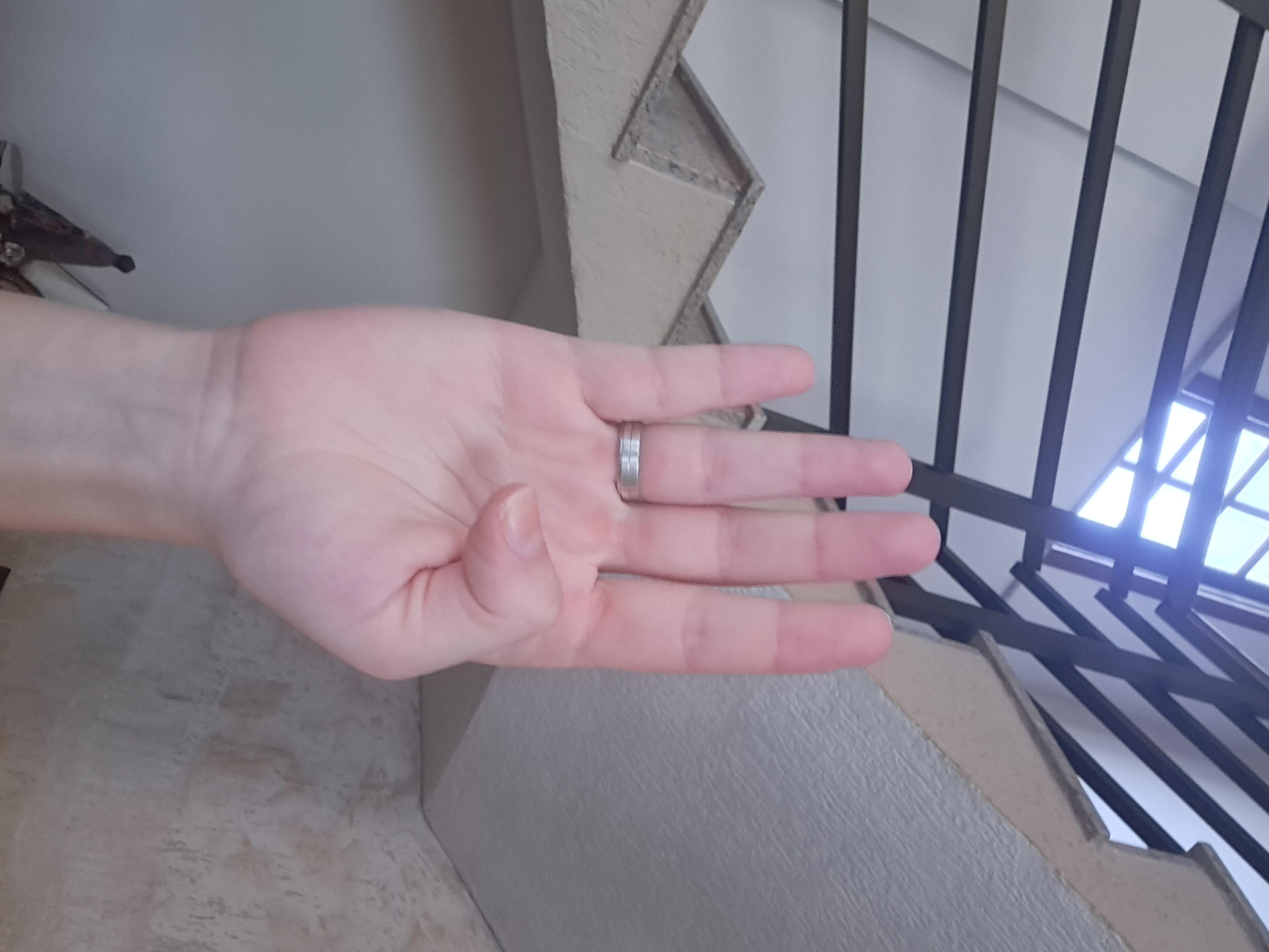B: (399, 239, 907, 790)
